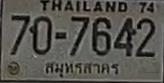0: (30, 15, 51, 54)
2: (135, 17, 154, 56)
4: (113, 17, 135, 56)
6: (91, 16, 110, 55)
7: (10, 14, 29, 54), (70, 16, 88, 55)
SKN: (43, 58, 123, 78)
